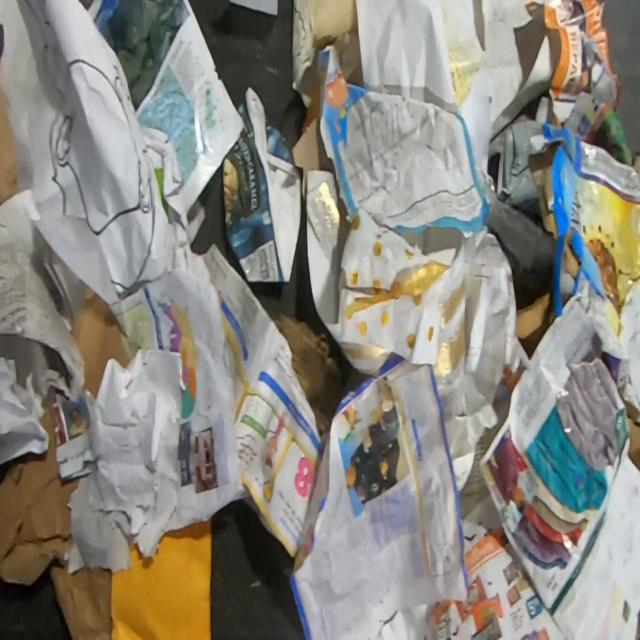cardboard: (514, 125, 640, 412), (0, 406, 112, 639), (220, 86, 302, 282), (271, 314, 373, 438), (68, 282, 130, 400), (290, 113, 335, 202)
rigid_plastic: (474, 163, 551, 285)
